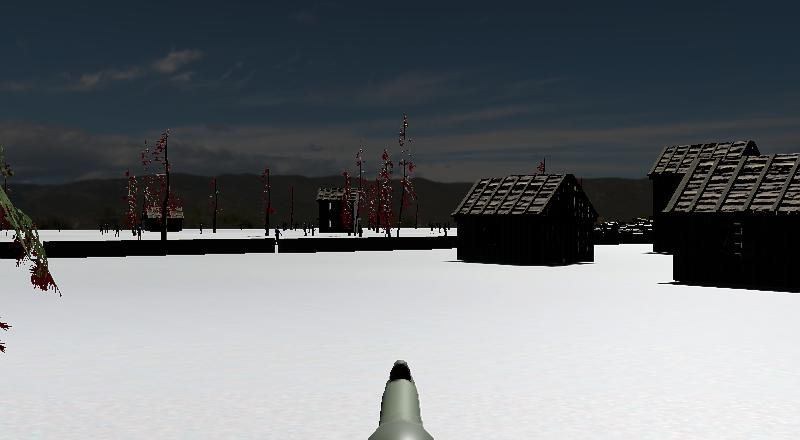House: (634, 123, 800, 313), (442, 157, 610, 294), (308, 176, 375, 243)
